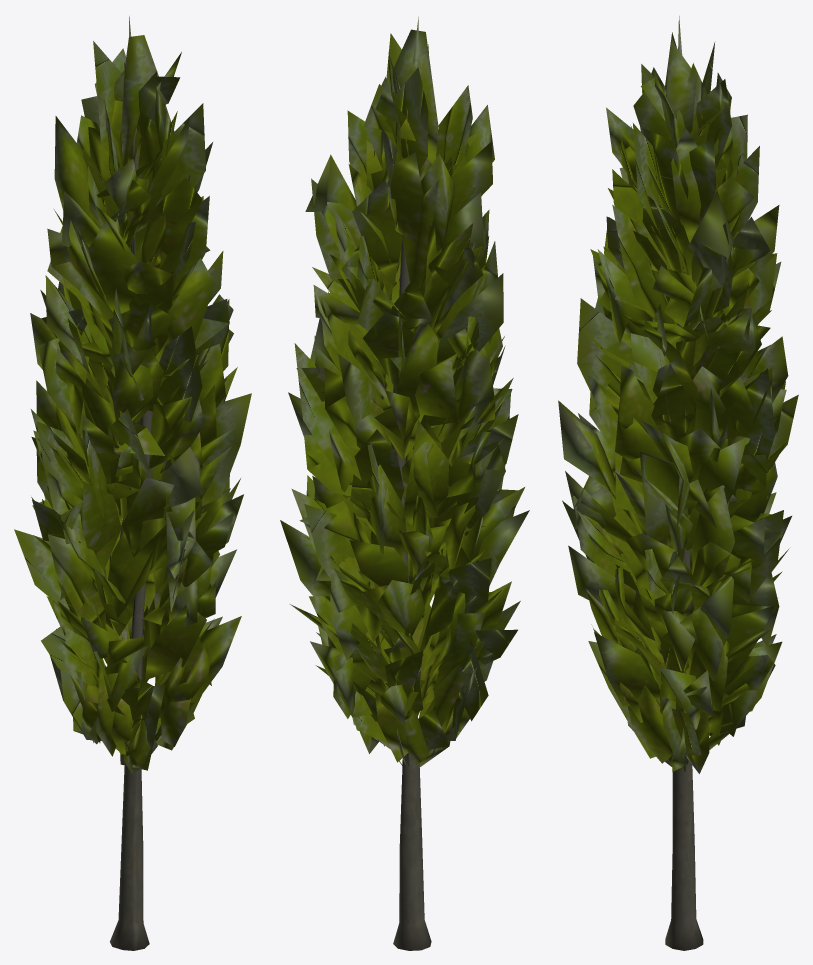
File: tree_poplar.glb
The picture shows the model from 3 angles, left to right: view 1: azimuth 30°, elevation 25°; view 2: azimuth 150°, elevation 25°; view 3: azimuth 270°, elevation 25°; orthographic projection.
Visible parts, largest first — view 1: geometry_0; view 2: geometry_0; view 3: geometry_0.
Part boxes in pixels (x1,y1,x2,y2): geometry_0: (14, 16, 251, 950); geometry_0: (280, 17, 529, 950); geometry_0: (558, 16, 798, 950).
Bounding box in the file's own units: 0.2227 × 0.9507 × 0.2236.
1 material, 1 textured.
